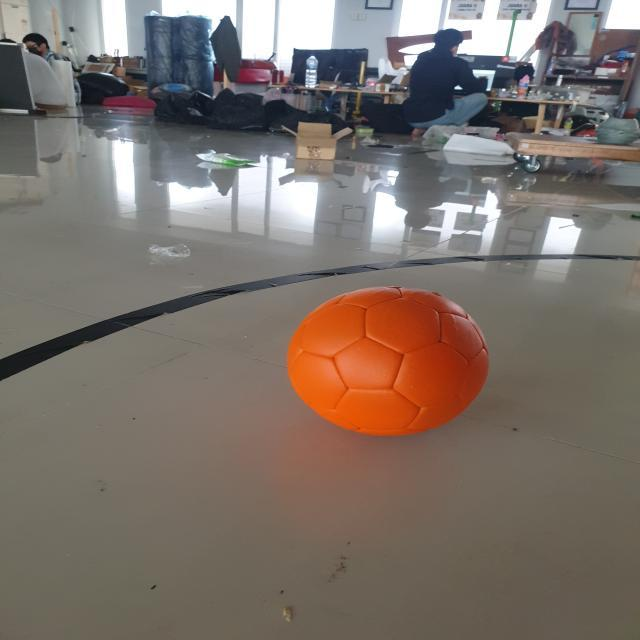bola: (250, 280, 532, 444)
